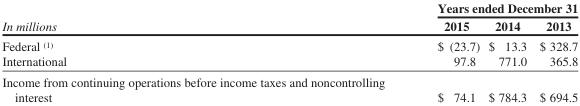table: (1, 0, 577, 103)
table column: (1, 0, 410, 103), (410, 0, 483, 103), (483, 0, 532, 103), (532, 0, 577, 103)
table column header: (1, 0, 577, 35)
table row: (1, 71, 577, 103), (1, 16, 577, 35), (1, 35, 577, 53), (1, 53, 577, 71), (1, 0, 577, 16)
table spanning cell: (1, 0, 410, 35), (410, 0, 577, 16)
